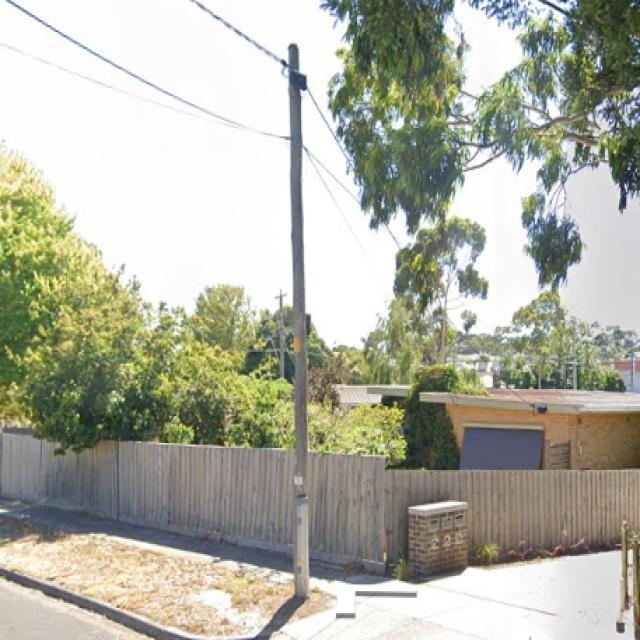timber-pole: (286, 41, 311, 598), (279, 290, 286, 378)
